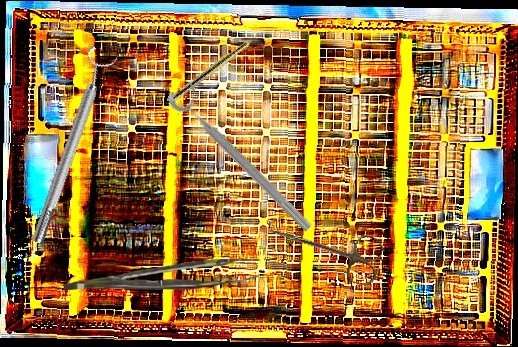Fixation Ring: (164, 76, 325, 237), (20, 45, 121, 248)
Handpiece: (166, 26, 268, 107)
Iris Scissors: (261, 209, 386, 288)
Tissue Forceps: (64, 259, 260, 290)
